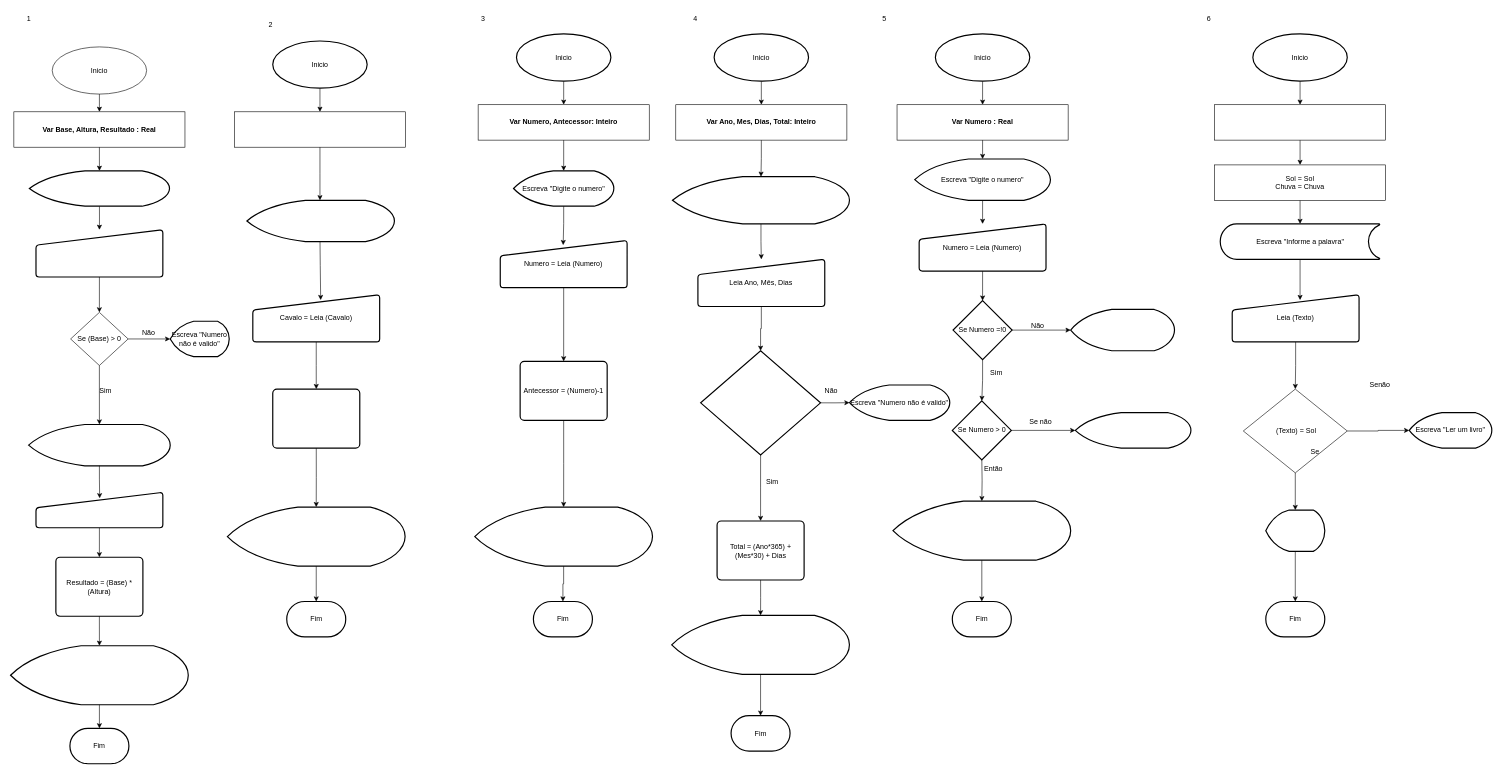
Image size: 1503x774. Some labels were removed from this diagram. Each missing label, with the centre of its shape:
Altura = Leia (Altura): [99,509]
Base = Leia (Base): [99,253]
Escreva "A Area do terreno é (Resultado)": [99,675]
Escreva "Digite a Altura do Terreno": [99,445]
Escreva "Digite a Base do Terreno": [99,188]
Escreva "Digite quantidade de cavalos": [320,220]
Escreva "Informe sua idade em Anos, Meses e Dias": [761,200]
Escreva "Ir a Praia": [1295,530]
Escreva "Numero é negativo ": [1132,430]
Escreva "Numero é positivo ": [981,530]
Escreva "O numero antecessor é (Antecessor)": [563,536]
Escreva "Seu numero é 0": [1122,330]
Escreva "Sua Idade em dias é Total ": [760,644]
Escreva "São necessárias (Resultado), ferraduras": [316,536]
Resultado = Cavalo*4: [316,418]
Se (Ano), (Mês), (Dias) >= 0: [760,402]
Var Cavalo, Resultado : Inteiro: [320,129]
Var Texto, Sol, Chuva : Caractere: [1300,122]
